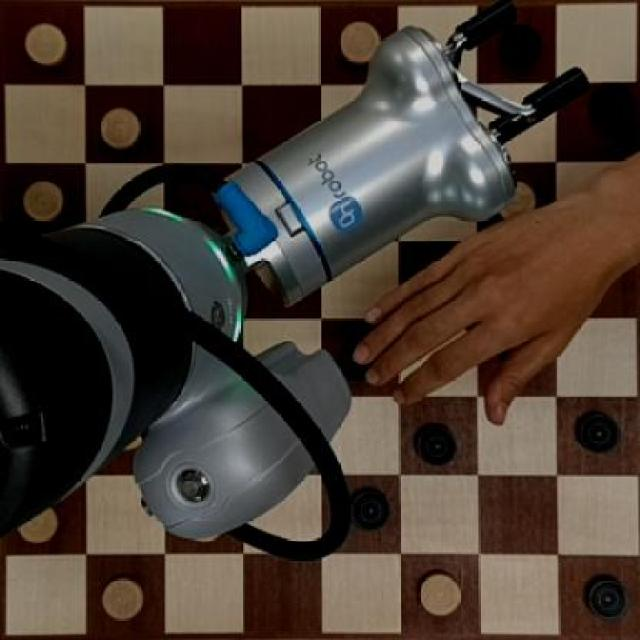black: (582, 83, 634, 147), (404, 414, 462, 468), (579, 568, 629, 627), (568, 407, 623, 458), (346, 479, 392, 536), (498, 22, 544, 75)
white: (18, 17, 77, 76), (93, 101, 147, 158), (97, 574, 148, 630), (411, 569, 465, 619), (332, 19, 378, 76), (19, 178, 71, 222)
